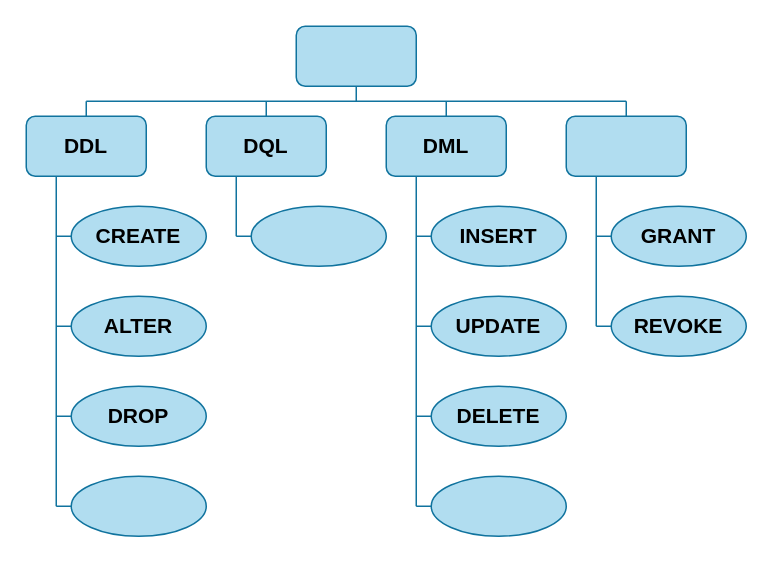
Image size: 773x563. Some labels were removed from this diagram. The shapes that lost their labels are listed below. From the top down, each one's box as (x1, y1, x2, y2) in pixels, then its label:
(295, 25, 416, 86): SQL
(565, 115, 686, 176): DCL
(250, 205, 386, 266): SELECT
(70, 475, 206, 536): RENAME
(430, 475, 566, 536): MERGE
